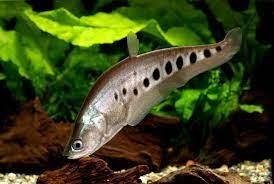Knifefish: (72, 37, 237, 170)
